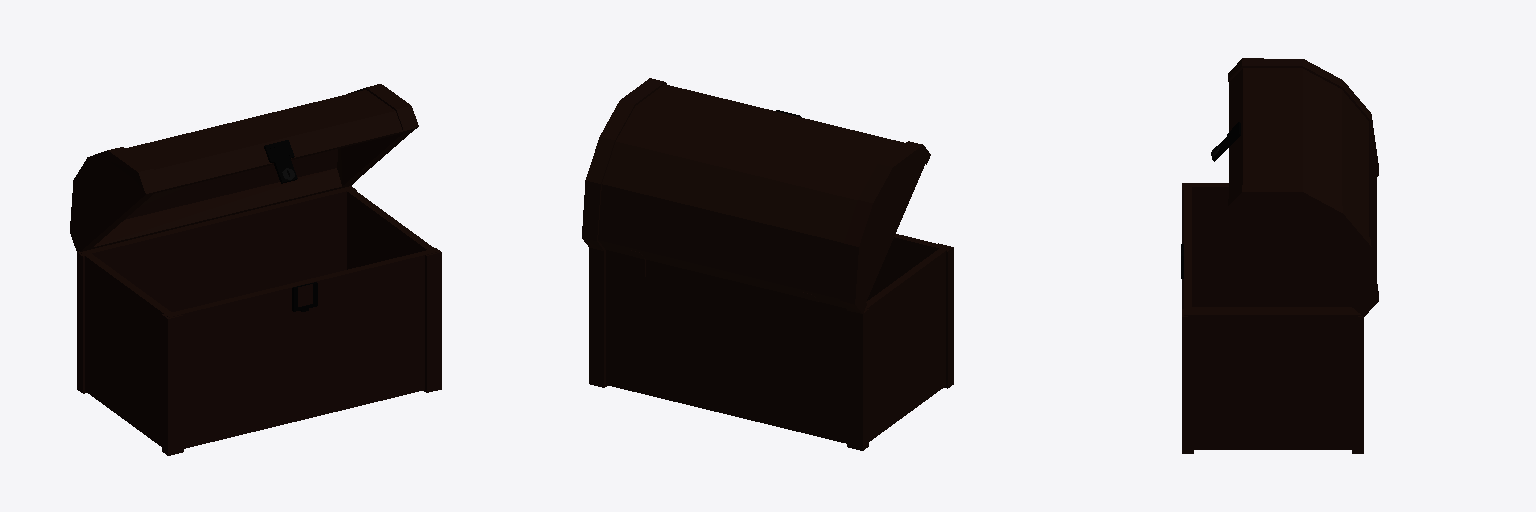
File: Chest.obj
3 renders of one model, left to right at view 1: azimuth 30°, elevation 25°; view 2: azimuth 150°, elevation 25°; view 3: azimuth 270°, elevation 25°, orthographic.
Visible parts, largest first — view 1: Chest_Plane.012; view 2: Chest_Plane.012; view 3: Chest_Plane.012.
Boxes of the visible parts, <box> form: Chest_Plane.012: <box>70,84,441,455</box>; Chest_Plane.012: <box>582,78,953,450</box>; Chest_Plane.012: <box>1181,58,1378,453</box>.
Bounding box in the file's own units: 1.55 × 1.41 × 0.9716.